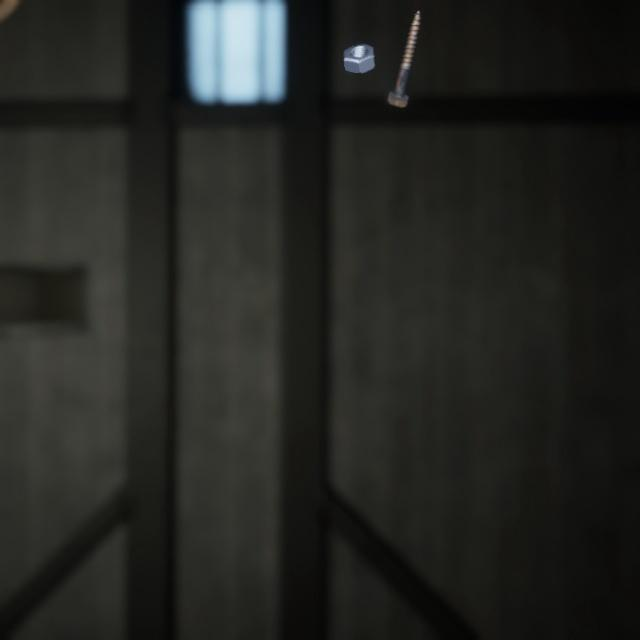bolt: (382, 0, 425, 102)
nut: (341, 31, 381, 67)
